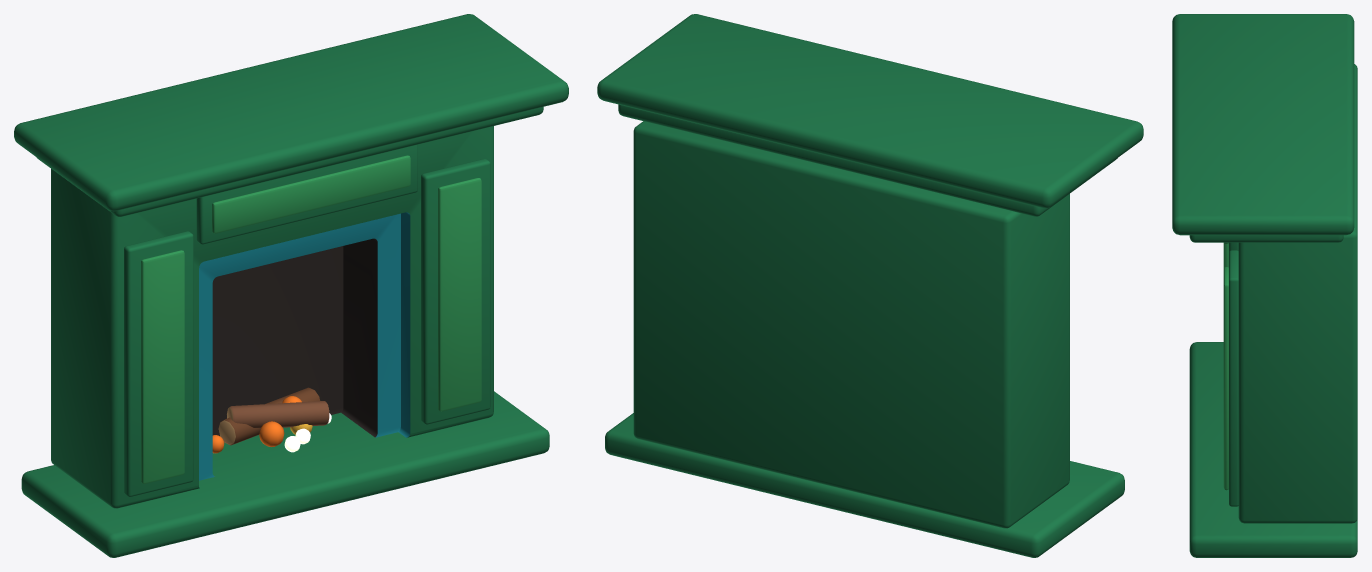
Rendered from lareira_classica_verde.glb.
3 renders of one model, left to right at view 1: azimuth 30°, elevation 25°; view 2: azimuth 150°, elevation 25°; view 3: azimuth 270°, elevation 25°, orthographic. The views are drawn at different scales.
Visible parts, largest first — view 1: lareira_classica_verde; view 2: lareira_classica_verde; view 3: lareira_classica_verde.
Boxes of the visible parts, <box> form: lareira_classica_verde: <box>14,14,568,557</box>; lareira_classica_verde: <box>597,14,1143,557</box>; lareira_classica_verde: <box>1172,14,1357,557</box>.
Size of the model in its own units: 1.4 by 1.09 by 0.53.
2 materials, 1 textured.
